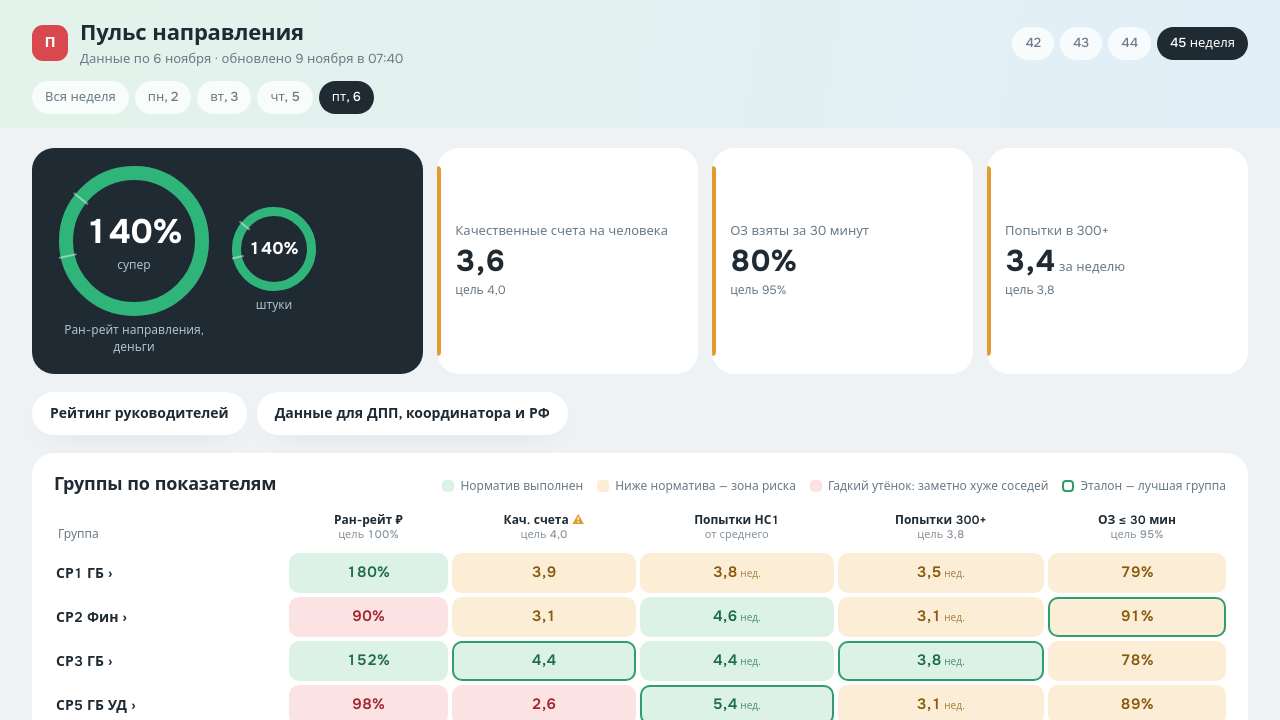
Test: Main screen › shows leadership data behind its button
Click the button "Данные для ДПП, координатора и РФ" at {"x": 412, "y": 414}, box [257, 392, 568, 435]
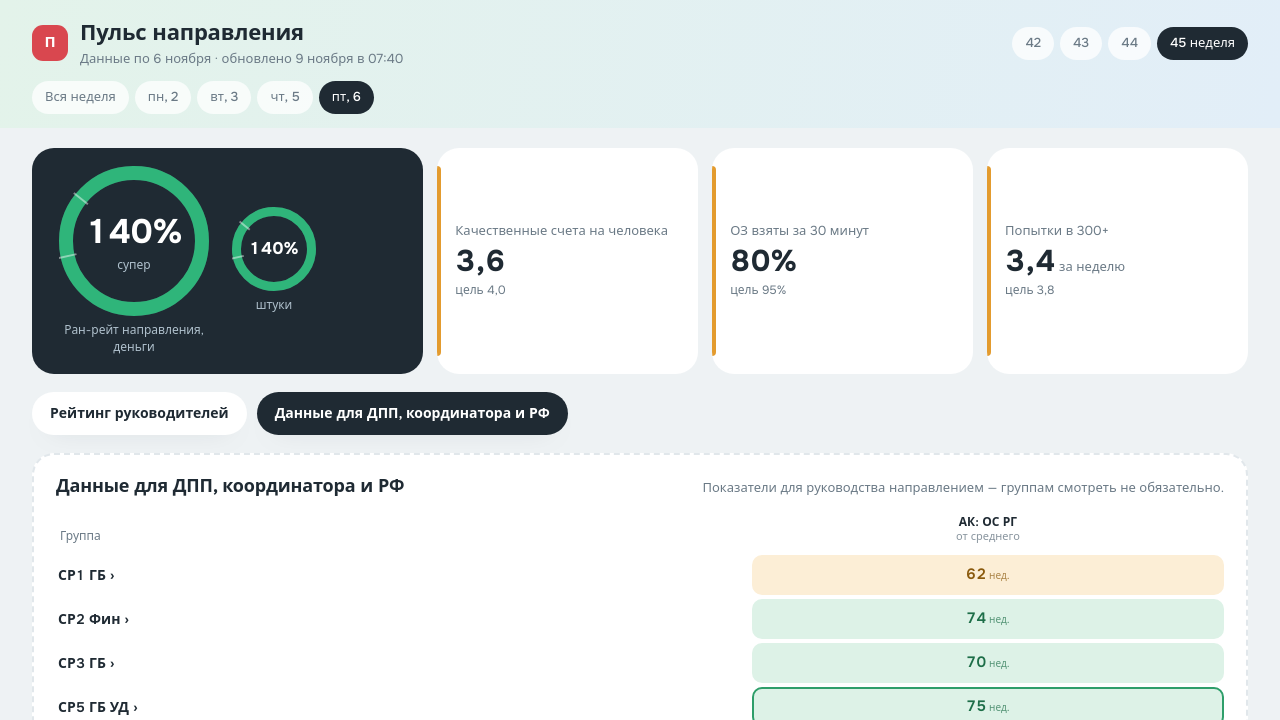
Expected: the column heading with test id "head-ak_rg_feedback" is shown, [752, 513, 1224, 551]
